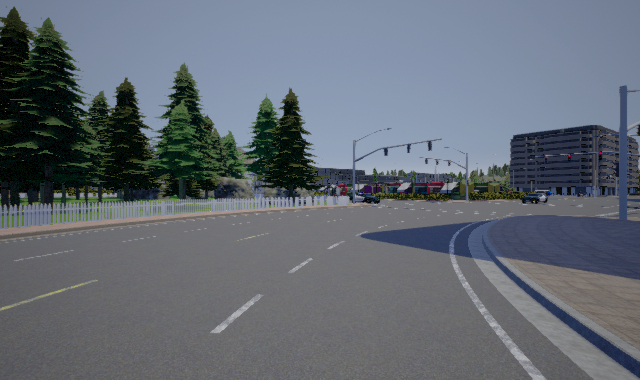traffic_light: (613, 163, 619, 177), (636, 125, 640, 136), (599, 152, 602, 160), (545, 156, 548, 163), (568, 154, 571, 161), (448, 160, 451, 166), (436, 159, 439, 165), (425, 158, 428, 164)
vehicle: (349, 190, 380, 203), (522, 190, 548, 204)
